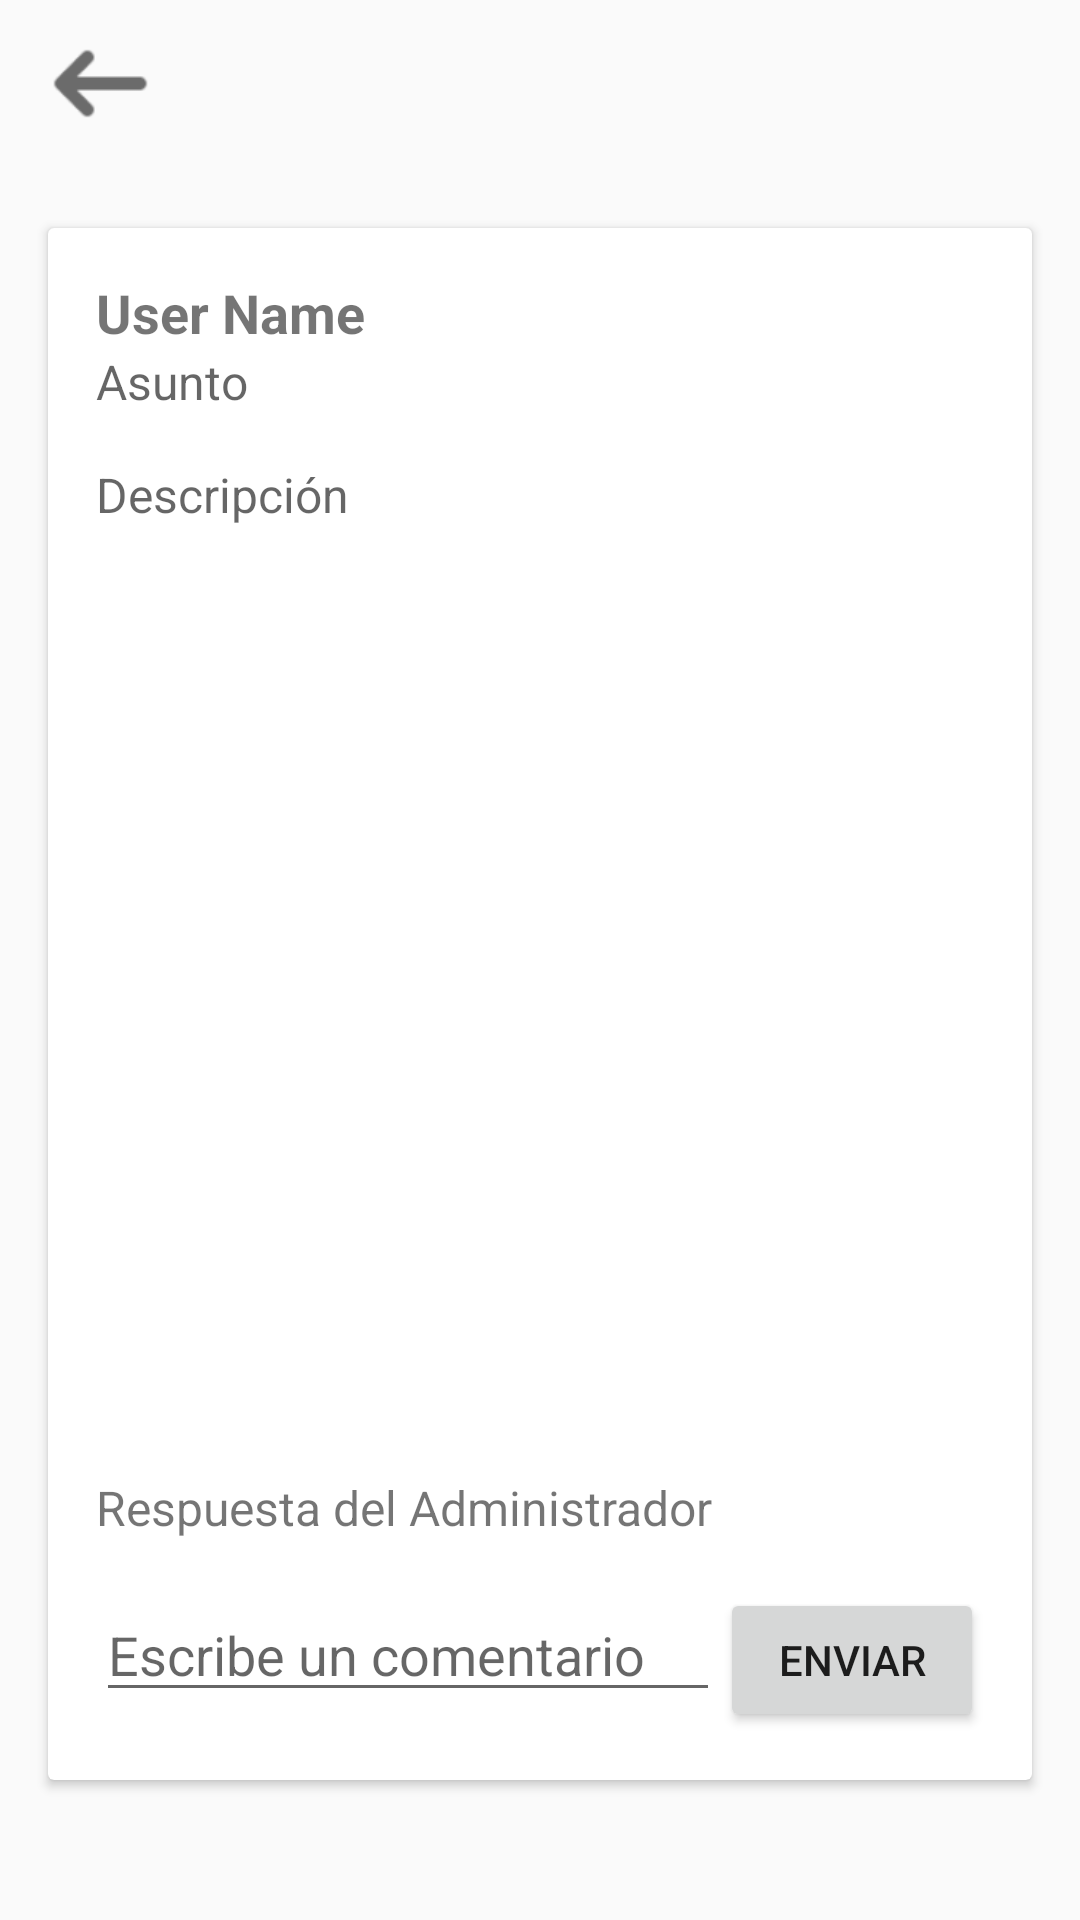

Named icons in this screenshot (1080x1920) and their bounding boxes, bbox=[x1, y1, x2, y2]:
back: bbox=[54, 50, 147, 117]
